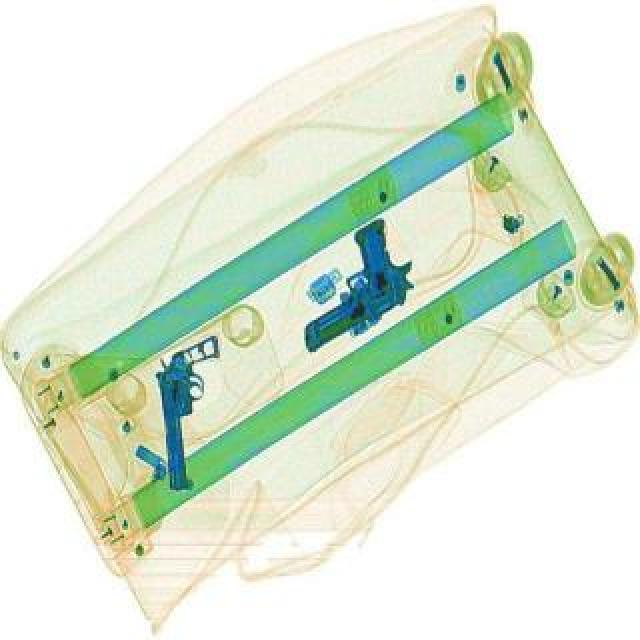gun: (260, 214, 432, 356), (154, 330, 230, 486)
